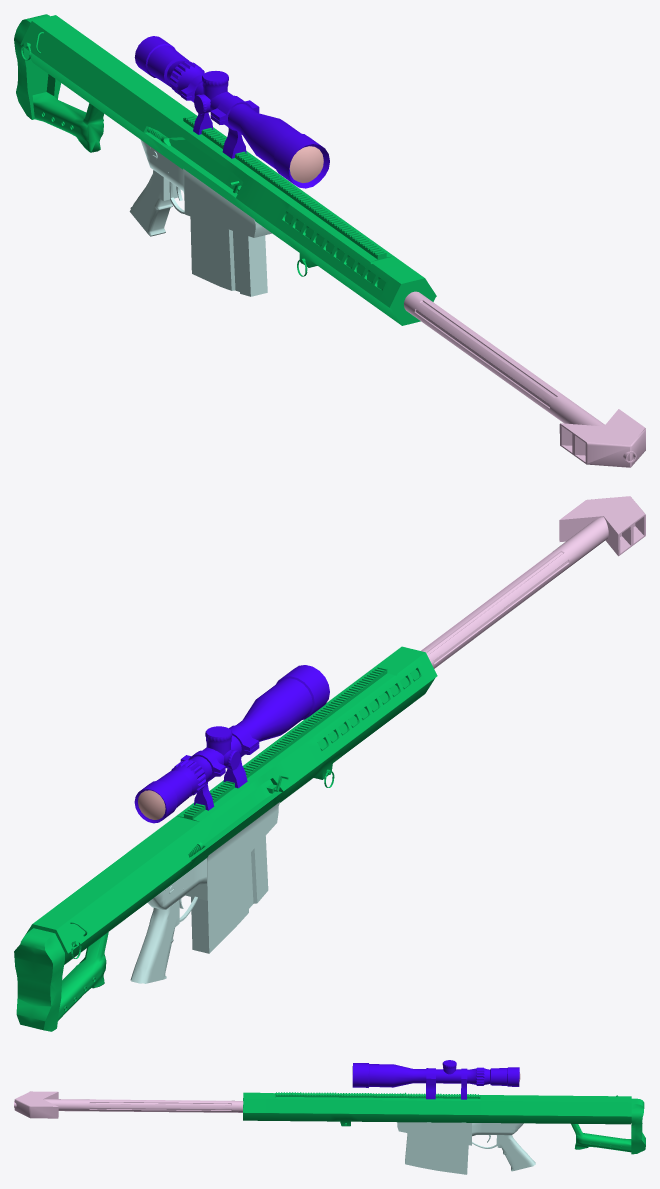
Rendered from usethis.fbx.
The picture shows the model from 3 angles, top to bottom: view 1: azimuth 30°, elevation 25°; view 2: azimuth 150°, elevation 25°; view 3: azimuth 270°, elevation 25°; orthographic projection. The views are drawn at different scales.
Visible parts, largest first — view 1: OilTank002; view 2: OilTank002; view 3: OilTank002.
Part boxes in pixels (x1,y1,x2,y2): OilTank002: (14, 14, 645, 467); OilTank002: (14, 496, 645, 1031); OilTank002: (14, 1060, 645, 1174).
Bounding box in the file's own units: 19.18 × 64.7 × 338.
